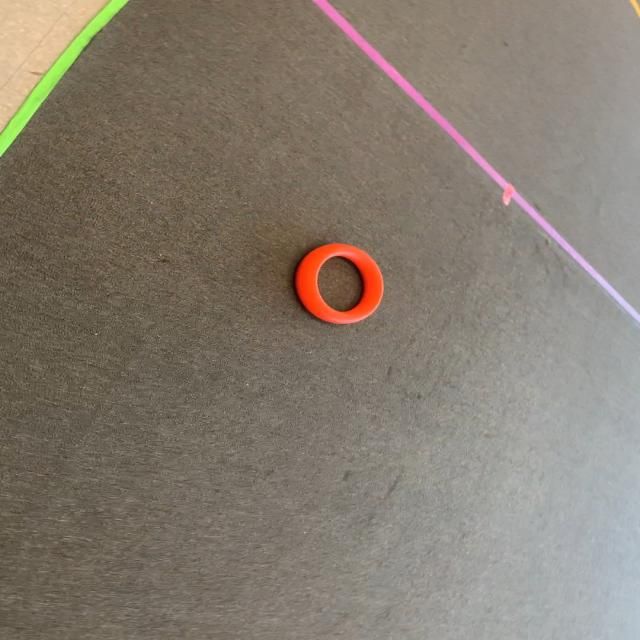notes: (286, 240, 390, 330)
